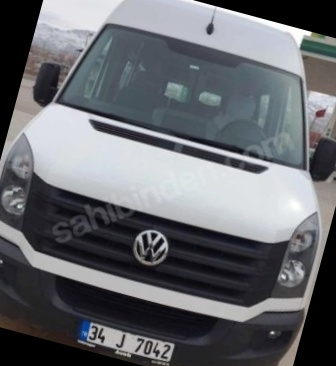plaka: (85, 321, 177, 360)
